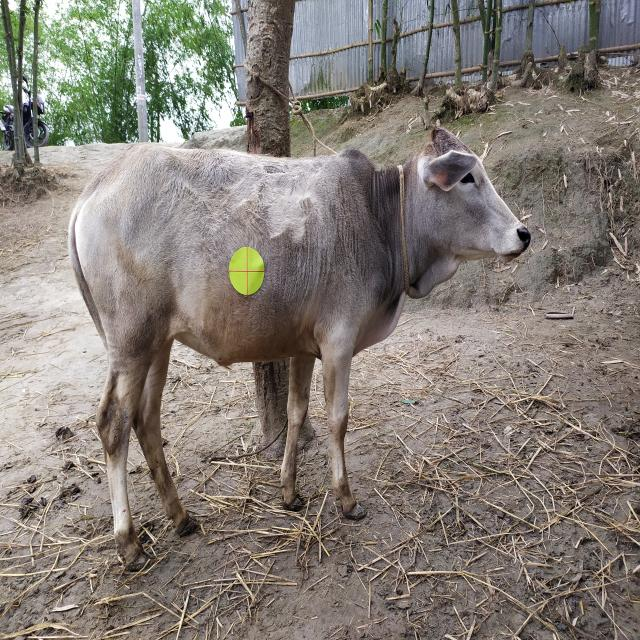badan_sapi: (74, 152, 372, 366)
sapi: (53, 124, 532, 560)
